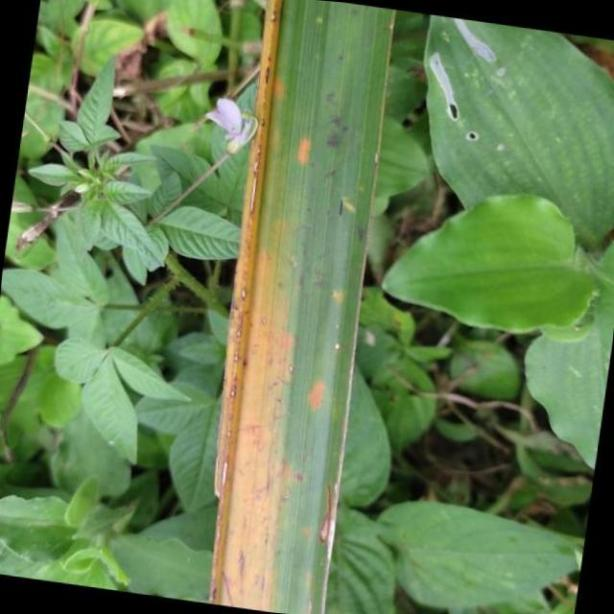Megnesium: (212, 0, 400, 614)
